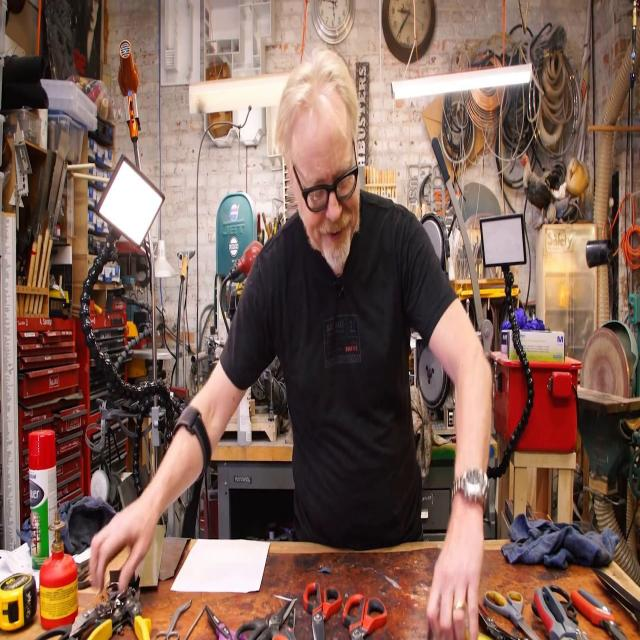scissor: (87, 589, 151, 640), (484, 589, 539, 640), (236, 600, 295, 640), (156, 598, 192, 640)
